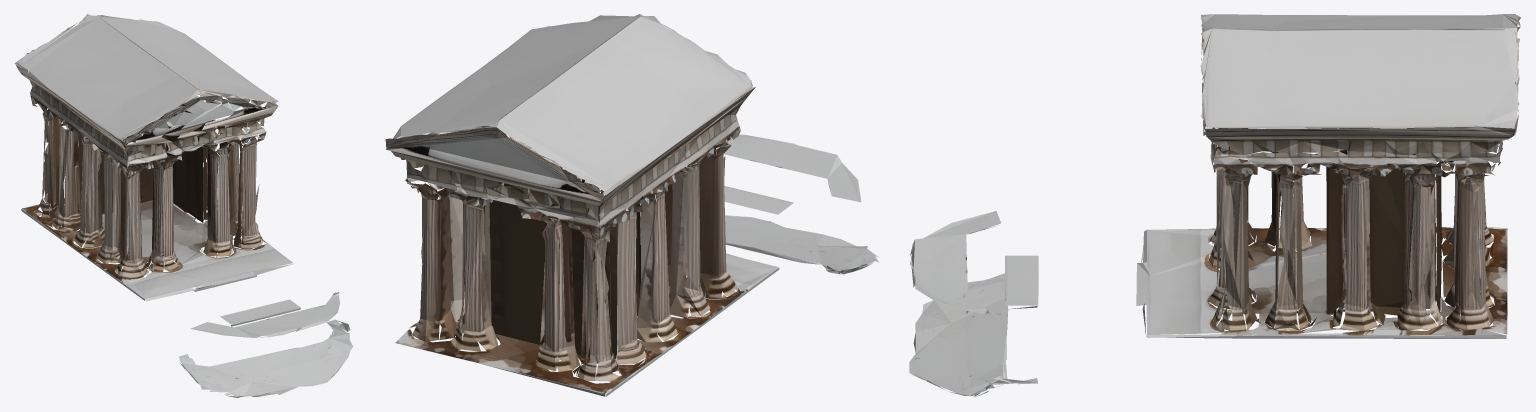
The model's file is building_marble.glb.
The picture shows the model from 3 angles, left to right: view 1: azimuth 30°, elevation 25°; view 2: azimuth 150°, elevation 25°; view 3: azimuth 270°, elevation 25°; orthographic projection. The views are drawn at different scales.
Parts seen in each view (by area): view 1: textured_mesh.obj; view 2: textured_mesh.obj; view 3: textured_mesh.obj.
Part boxes in pixels (left/top/right/bottom): textured_mesh.obj: left=14, top=14, right=352, bottom=397; textured_mesh.obj: left=385, top=14, right=878, bottom=396; textured_mesh.obj: left=909, top=14, right=1520, bottom=396.
Bounding box in the file's own units: 0.7159 × 0.9423 × 1.58.
1 material, 1 textured.
